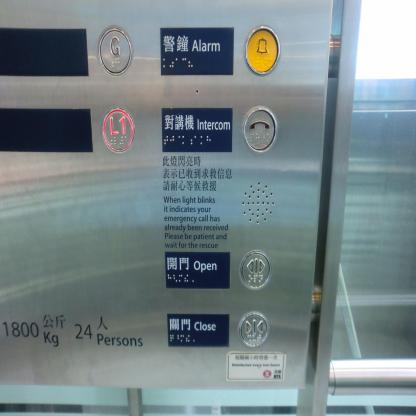G: (97, 25, 133, 76)
L1: (100, 104, 136, 155)
alarm: (244, 24, 282, 77)
call: (242, 103, 277, 154)
close: (237, 309, 270, 350)
open: (238, 247, 273, 292)
